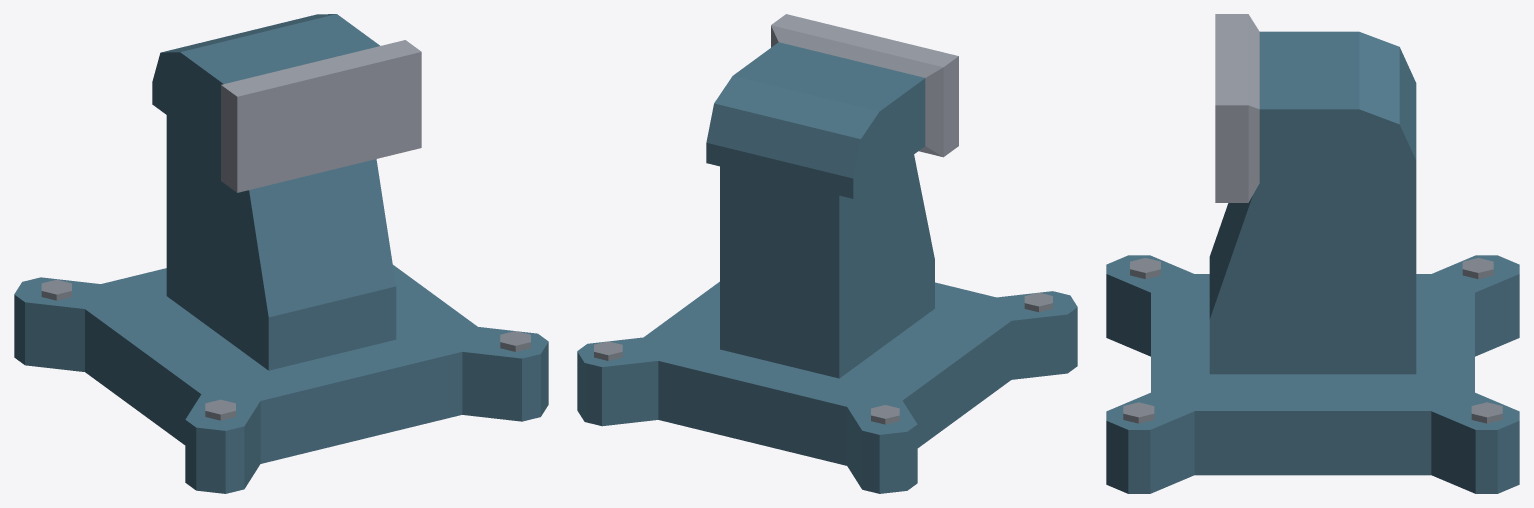
The model's file is SM_Prop_WorkTable_Vice_01.fbx.
The picture shows the model from 3 angles, left to right: view 1: azimuth 30°, elevation 25°; view 2: azimuth 150°, elevation 25°; view 3: azimuth 270°, elevation 25°; orthographic projection. The views are drawn at different scales.
Visible parts, largest first — view 1: SM_Prop_WorkTable_Vice_01; view 2: SM_Prop_WorkTable_Vice_01; view 3: SM_Prop_WorkTable_Vice_01.
Boxes of the visible parts, left/top/right/bottom form: SM_Prop_WorkTable_Vice_01: left=14, top=14, right=548, bottom=493; SM_Prop_WorkTable_Vice_01: left=577, top=14, right=1077, bottom=493; SM_Prop_WorkTable_Vice_01: left=1106, top=14, right=1519, bottom=493.
Bounding box in the file's own units: 29.93 × 27.73 × 29.93.
